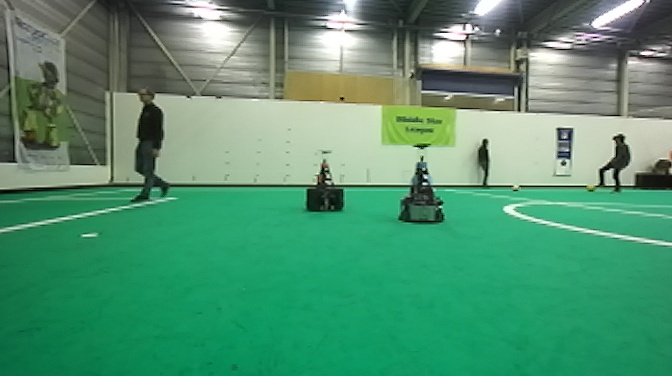ball: (509, 181, 523, 194), (584, 182, 596, 194)
human: (130, 86, 170, 202), (592, 132, 632, 193), (473, 133, 495, 189)
robot: (396, 141, 447, 225), (306, 148, 347, 212)
